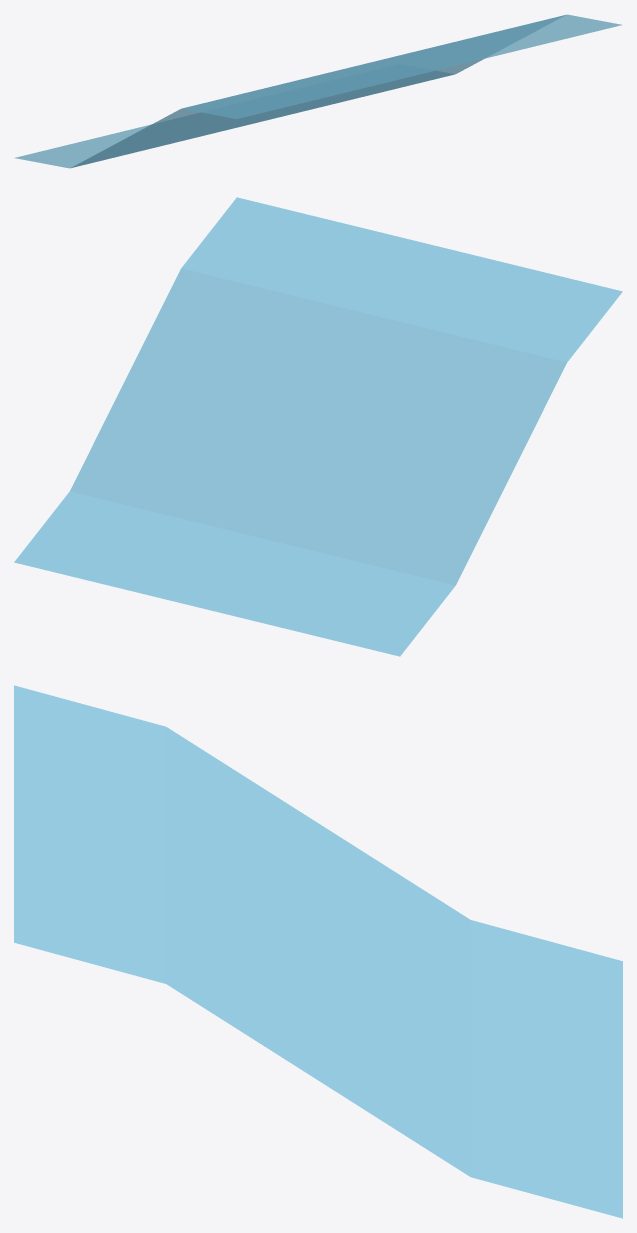
Rendered from Hilly_Terrain_Water_Slope.glb.
3 renders of one model, top to bottom at view 1: azimuth 30°, elevation 25°; view 2: azimuth 150°, elevation 25°; view 3: azimuth 270°, elevation 25°, orthographic. The views are drawn at different scales.
Parts seen in each view (by area): view 1: Hilly_Terrain_Water_Slope; view 2: Hilly_Terrain_Water_Slope; view 3: Hilly_Terrain_Water_Slope.
Boxes of the visible parts, x1,y1,x2,y2 form: Hilly_Terrain_Water_Slope: (15,14,621,168); Hilly_Terrain_Water_Slope: (14,197,622,656); Hilly_Terrain_Water_Slope: (14,685,622,1218).
Size of the model in its own units: 2 by 1 by 2.
